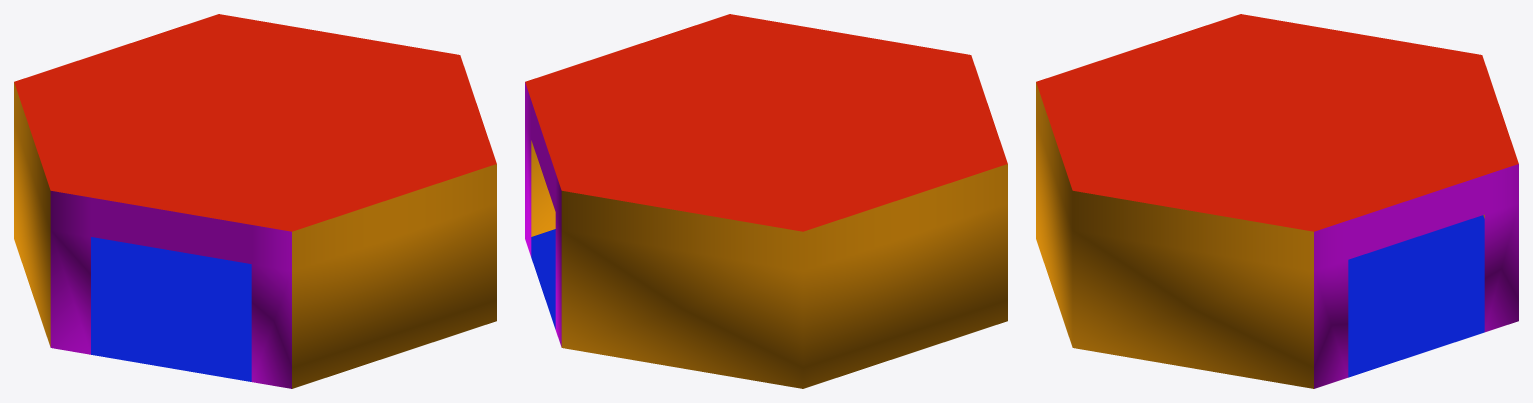
File: NeutralRoom1.fbx
3 views of the same model, side by side, from view 1: azimuth 30°, elevation 25°; view 2: azimuth 150°, elevation 25°; view 3: azimuth 270°, elevation 25° (orthographic).
Visible parts, largest first — view 1: Museum_complete_Blockout:neutral_room1; view 2: Museum_complete_Blockout:neutral_room1; view 3: Museum_complete_Blockout:neutral_room1.
Part boxes in pixels (<box>): Museum_complete_Blockout:neutral_room1: <box>14,14,496,388</box>; Museum_complete_Blockout:neutral_room1: <box>525,14,1007,388</box>; Museum_complete_Blockout:neutral_room1: <box>1036,14,1518,388</box>.
Size of the model in its own units: 4075 by 1372 by 3819.
